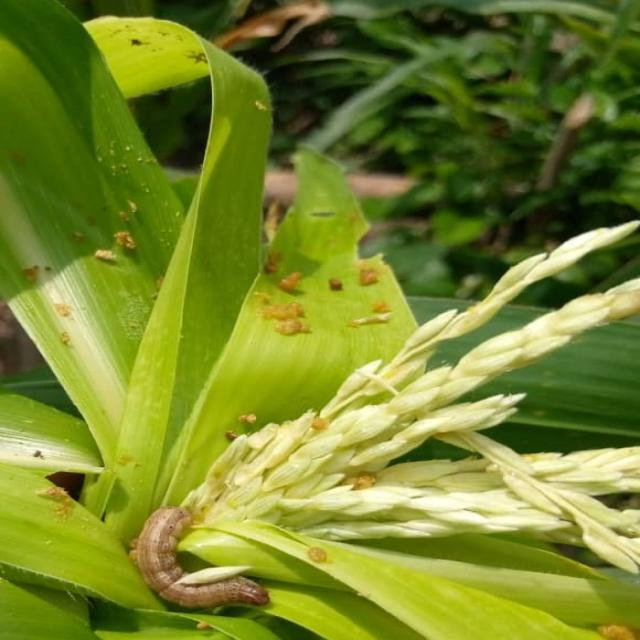yellow-stem-borer-larva: (129, 497, 279, 624)
